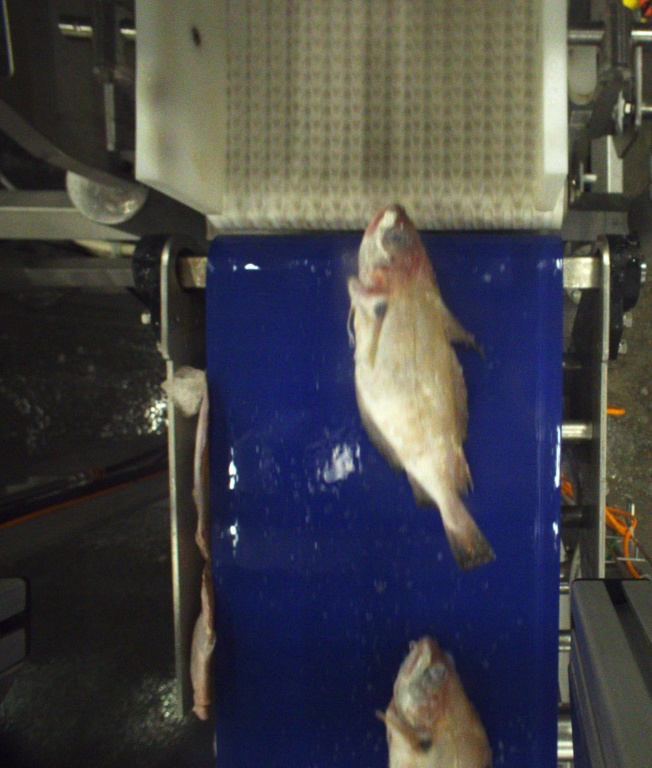BIB: (342, 201, 499, 574)
